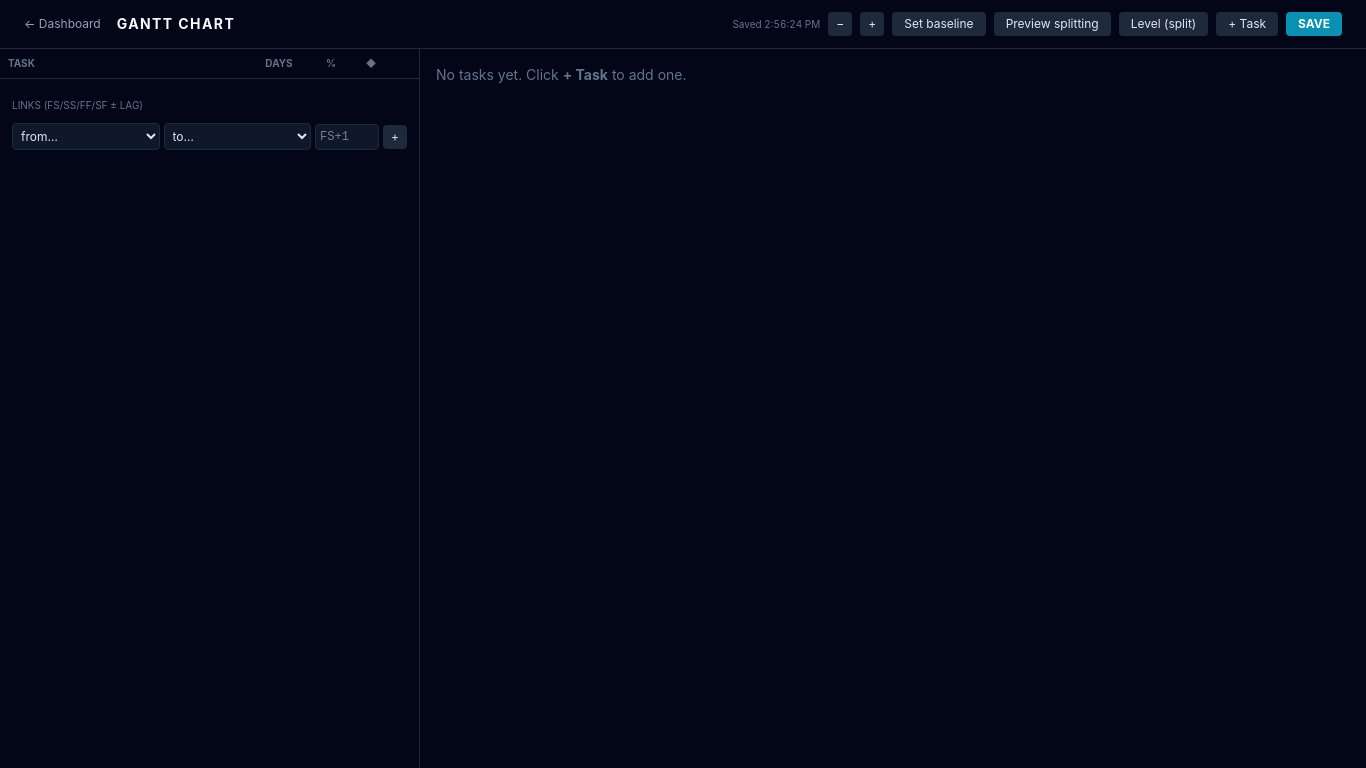
Scenario: GanttEditor split actions (handler glue) › previewSplit: bridge result flows to the status line
Click the button "Preview splitting".
click(1052, 24)  # box [994,12,1111,36]
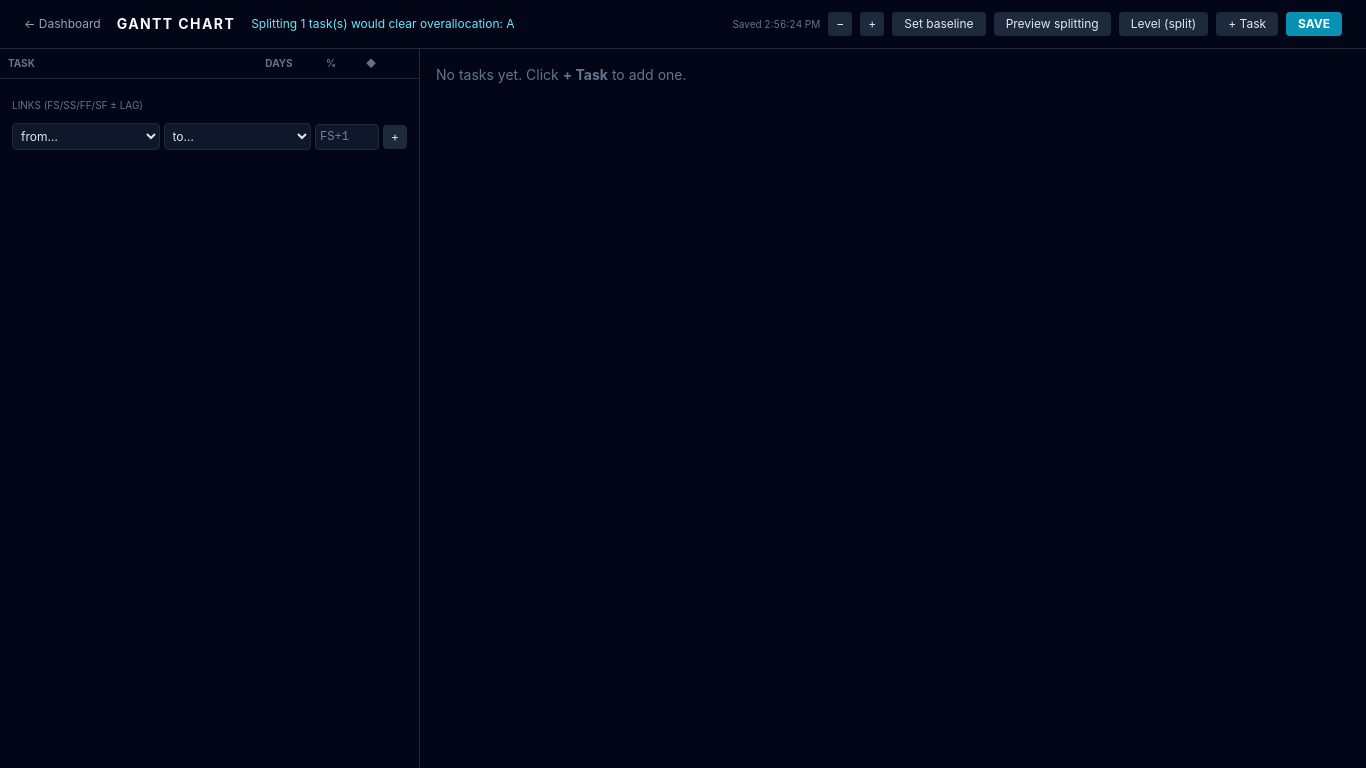
Expected: the text "Splitting 1 task(s) would clear overallocation: A" is shown, [251,16,515,32]
